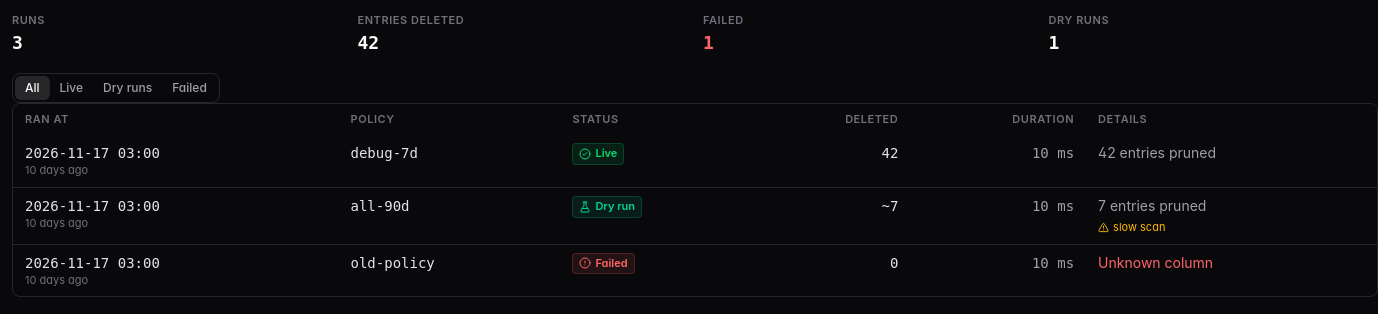
it: RetentionHistoryView › filters by status
Click the button "Failed": (190, 88) left=162, top=76, right=217, bottom=100
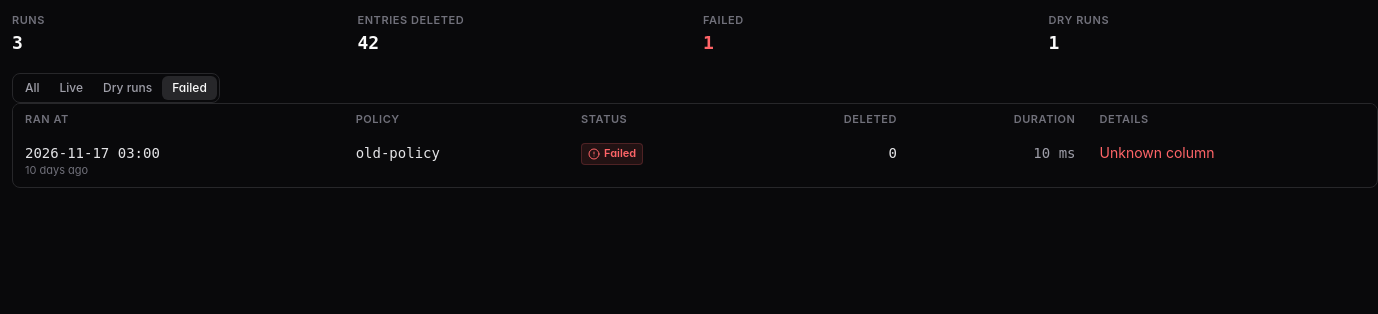
expect the number of rows with test id "retention-run" is 1: met, box left=13, top=135, right=1377, bottom=187
Click the button "Dry runs": (128, 88) left=93, top=76, right=162, bottom=100
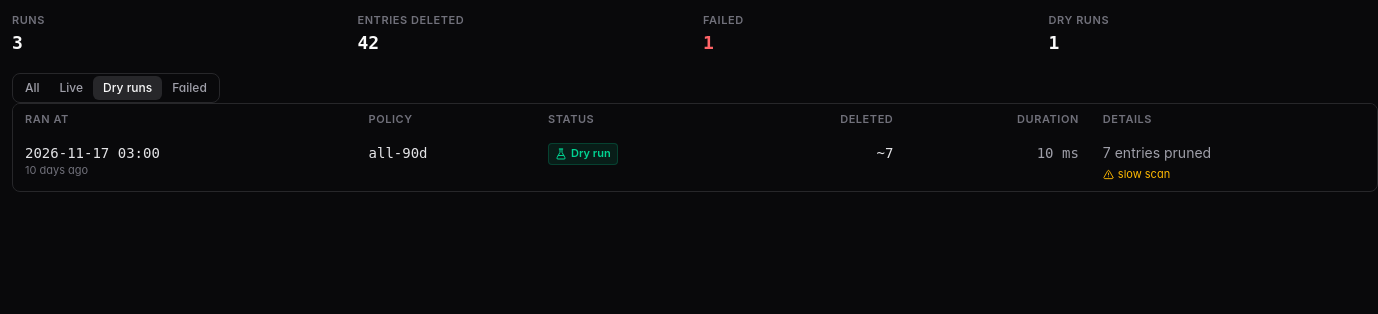
expect the number of rows with test id "retention-run" is 1: met, box left=13, top=135, right=1377, bottom=191
expect the text "all-90d" is shown: met, box left=356, top=135, right=536, bottom=191
